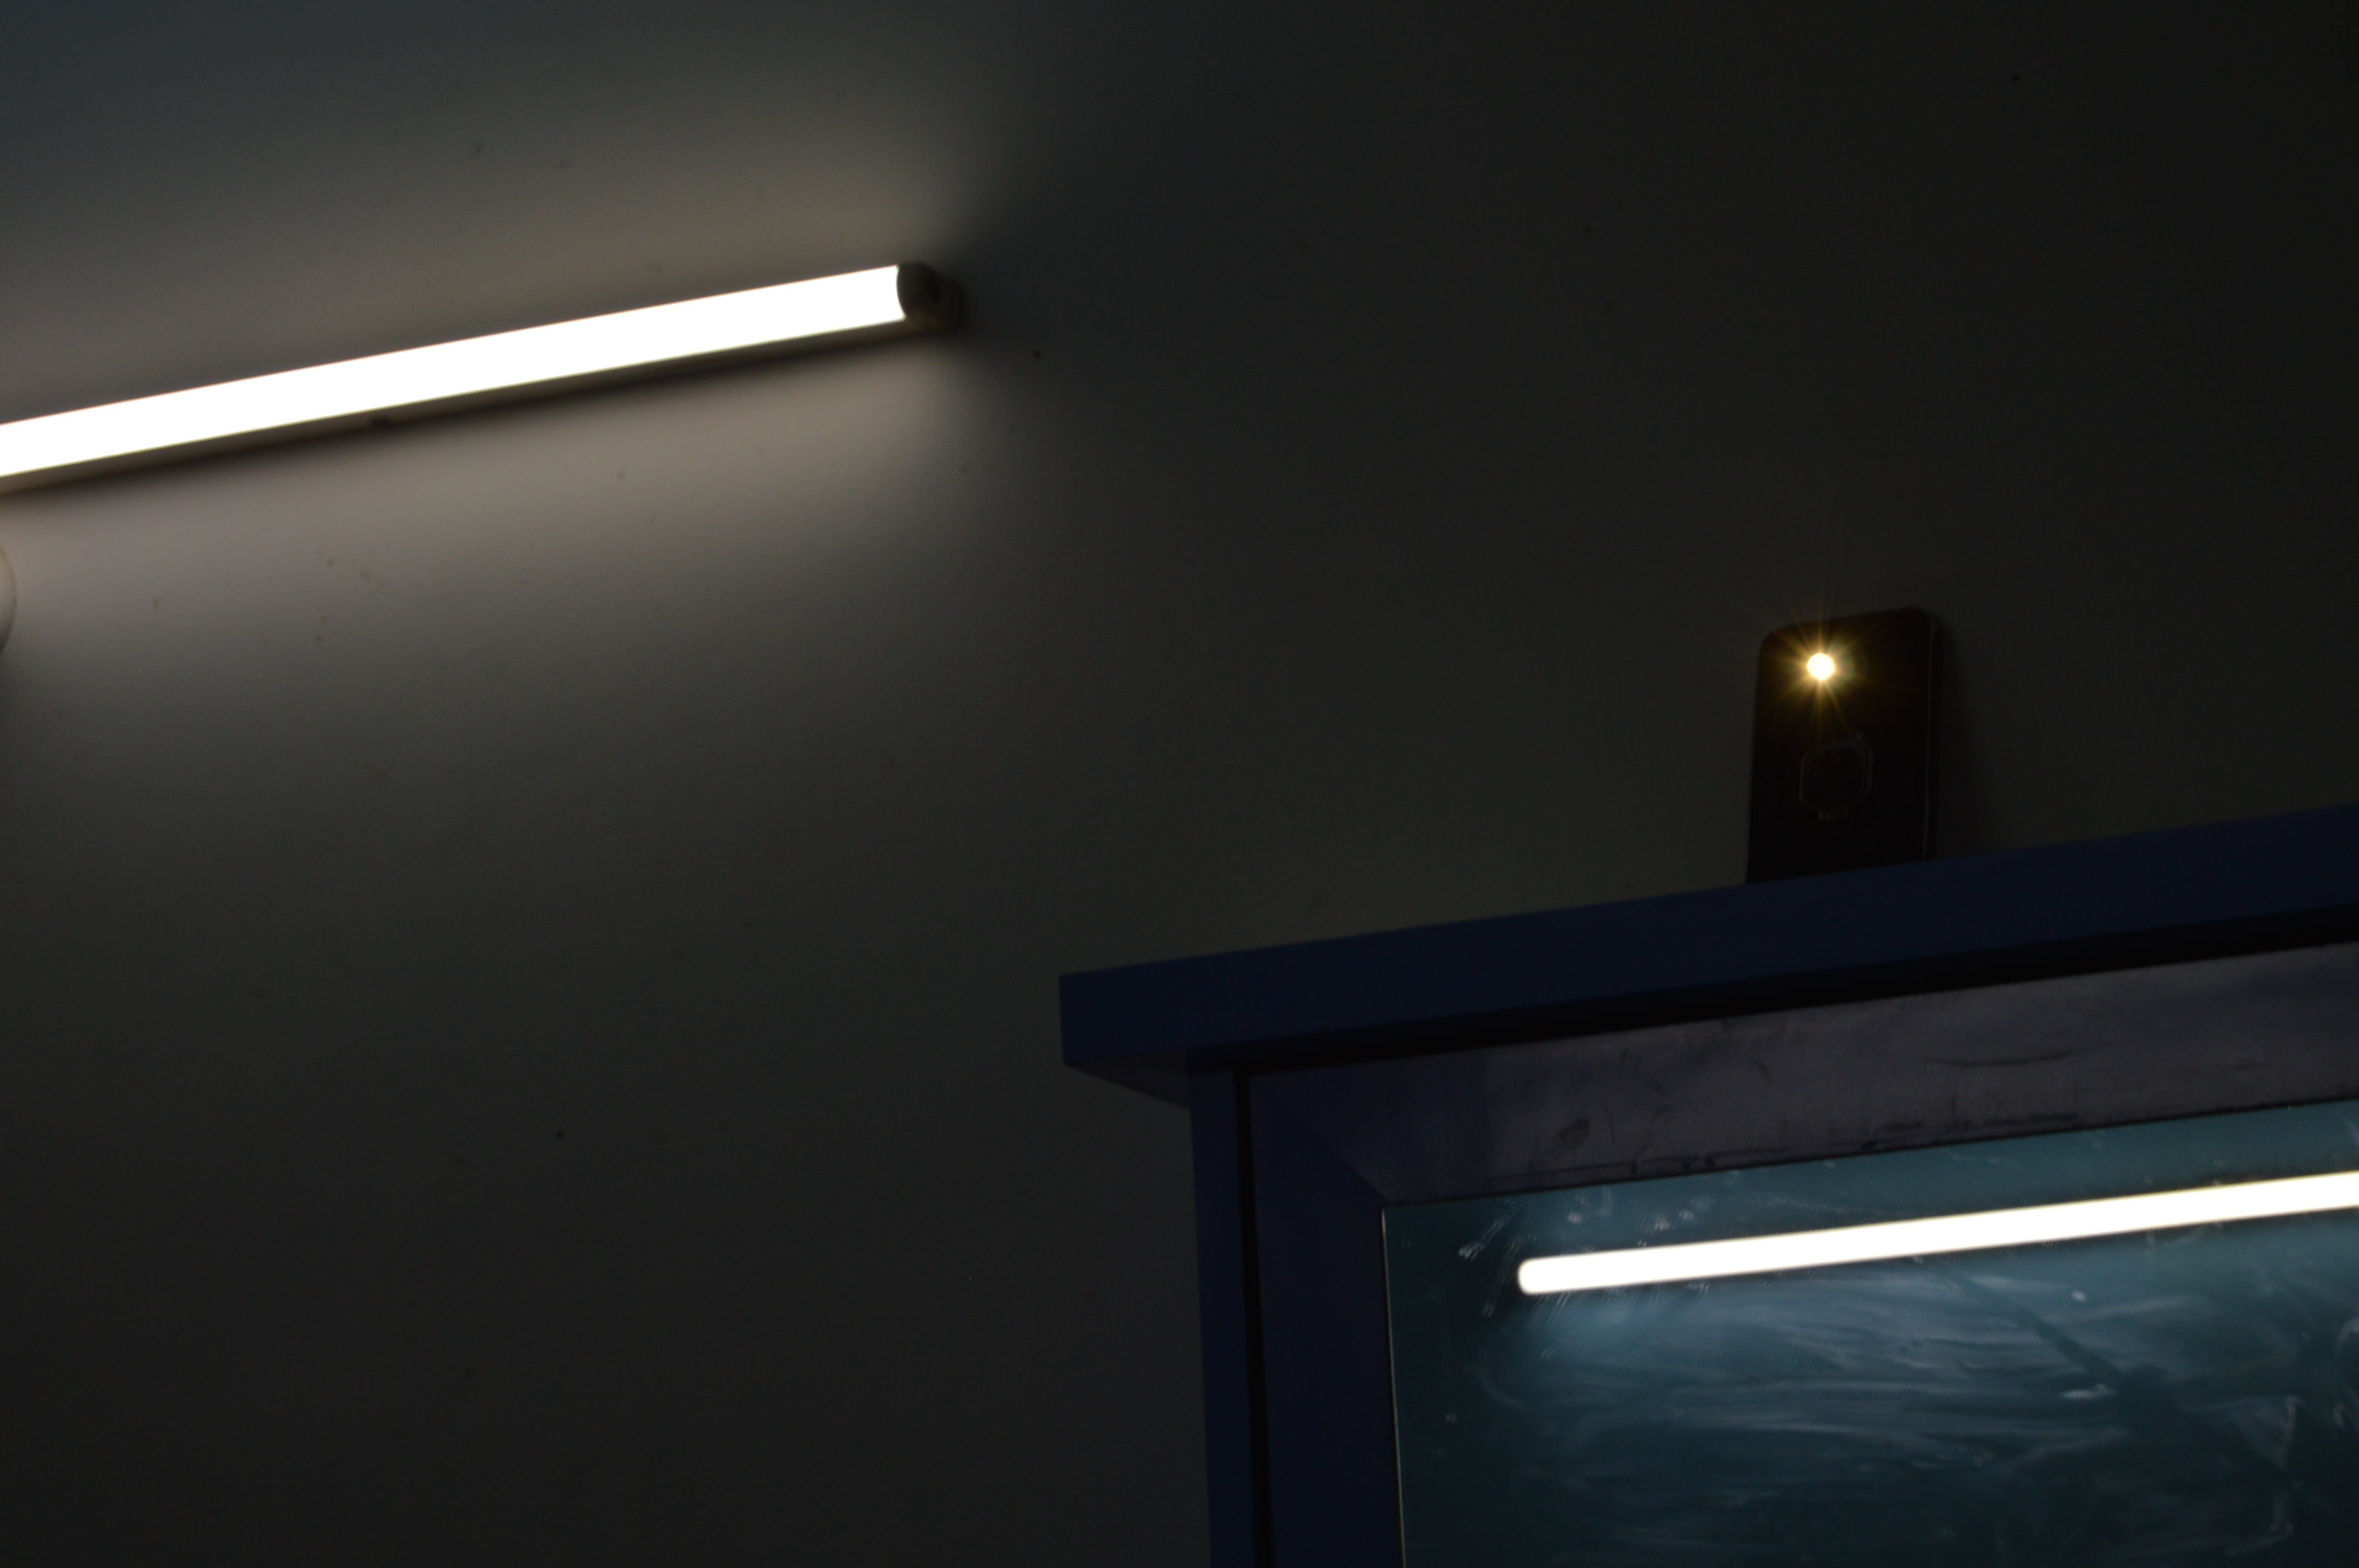Glare: (1795, 0, 2359, 642)
